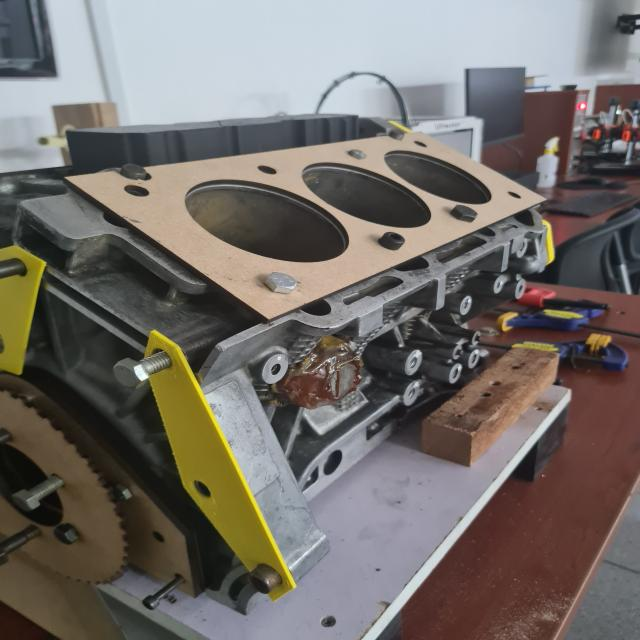vista1: (66, 131, 548, 319)
